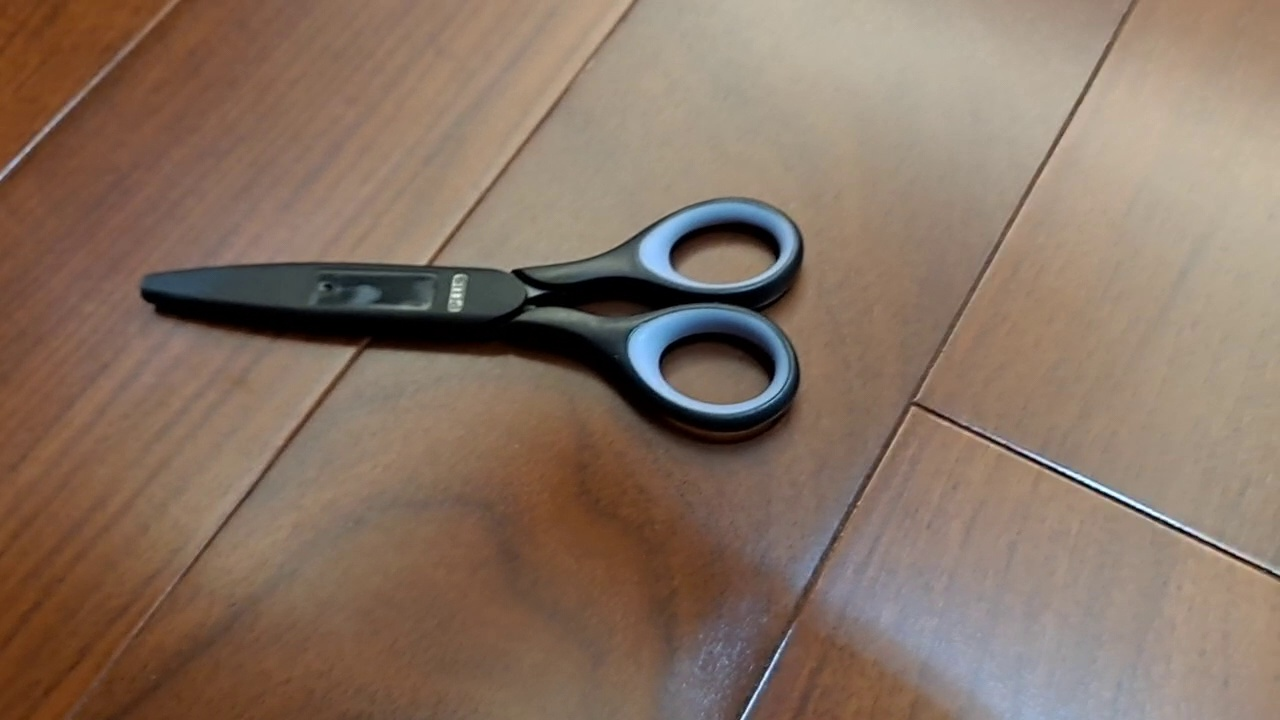scissors: (138, 195, 805, 434)
